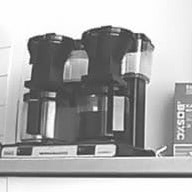empty coffee: (19, 88, 73, 144)
not empty coffee: (75, 85, 133, 143)
